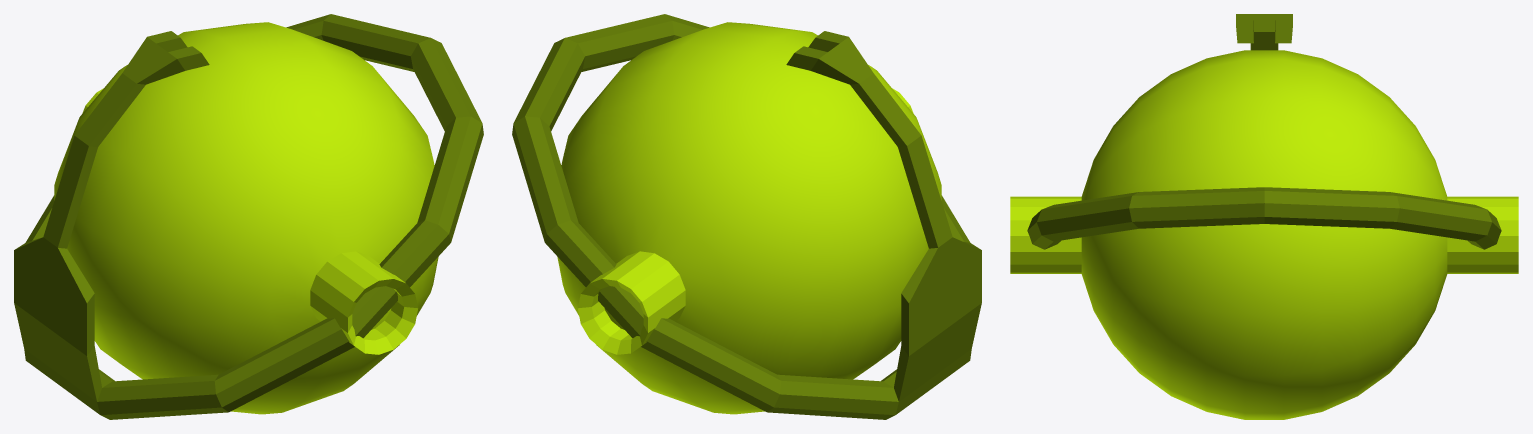
Rendered from Circle_Char_Idle.fbx.
3 renders of one model, left to right at view 1: azimuth 30°, elevation 25°; view 2: azimuth 150°, elevation 25°; view 3: azimuth 270°, elevation 25°, orthographic. The views are drawn at different scales.
Parts seen in each view (by area): view 1: polySurface2, polySurface1; view 2: polySurface2, polySurface1; view 3: polySurface2, polySurface1.
Part boxes in pixels (bbox=[...]): polySurface2: bbox=[54, 22, 438, 414]; polySurface1: bbox=[14, 14, 483, 419]; polySurface2: bbox=[557, 22, 941, 414]; polySurface1: bbox=[512, 14, 981, 419]; polySurface2: bbox=[1010, 50, 1518, 419]; polySurface1: bbox=[1027, 14, 1501, 249].
Bounding box in the file's own units: 2.3 × 2.06 × 2.72.
